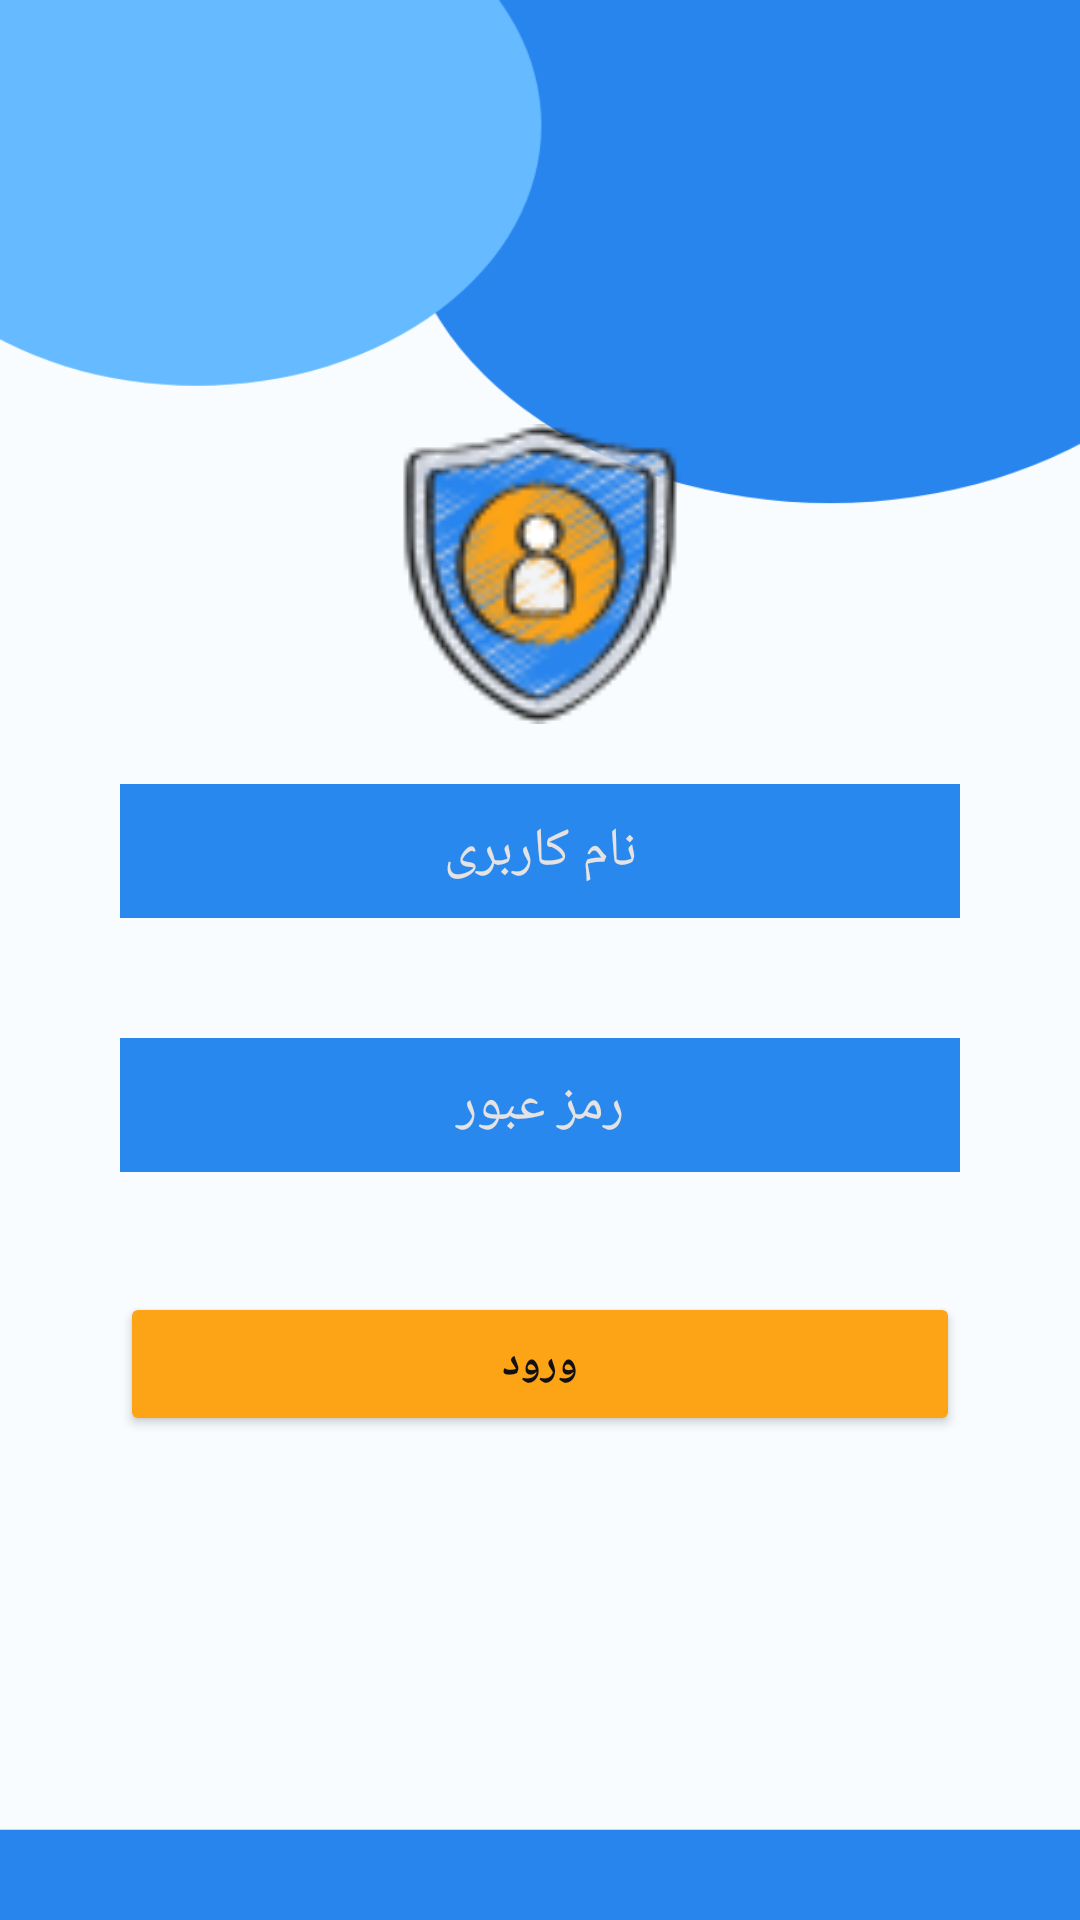

Icons on this 1080×1920 Android screen, each with the point to tap as (x=x, y=y):
security: (x=546, y=574)
